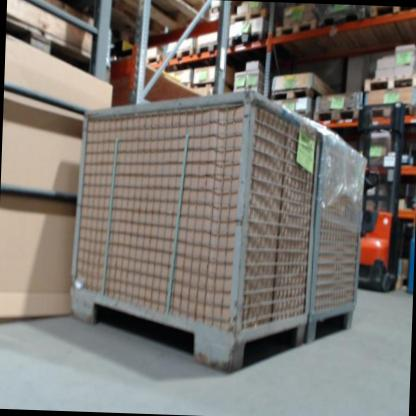pallet: (6, 0, 116, 81), (115, 0, 210, 46), (317, 4, 368, 36), (272, 16, 323, 42), (361, 72, 416, 95), (365, 103, 416, 124), (312, 104, 361, 124), (231, 28, 270, 52), (229, 7, 271, 28), (269, 85, 321, 100), (368, 7, 416, 21), (195, 79, 227, 98), (196, 38, 222, 59), (143, 52, 168, 69), (167, 47, 191, 64)
pallet_truck: (343, 96, 411, 295)
stillage: (68, 90, 319, 380), (311, 122, 363, 346)
